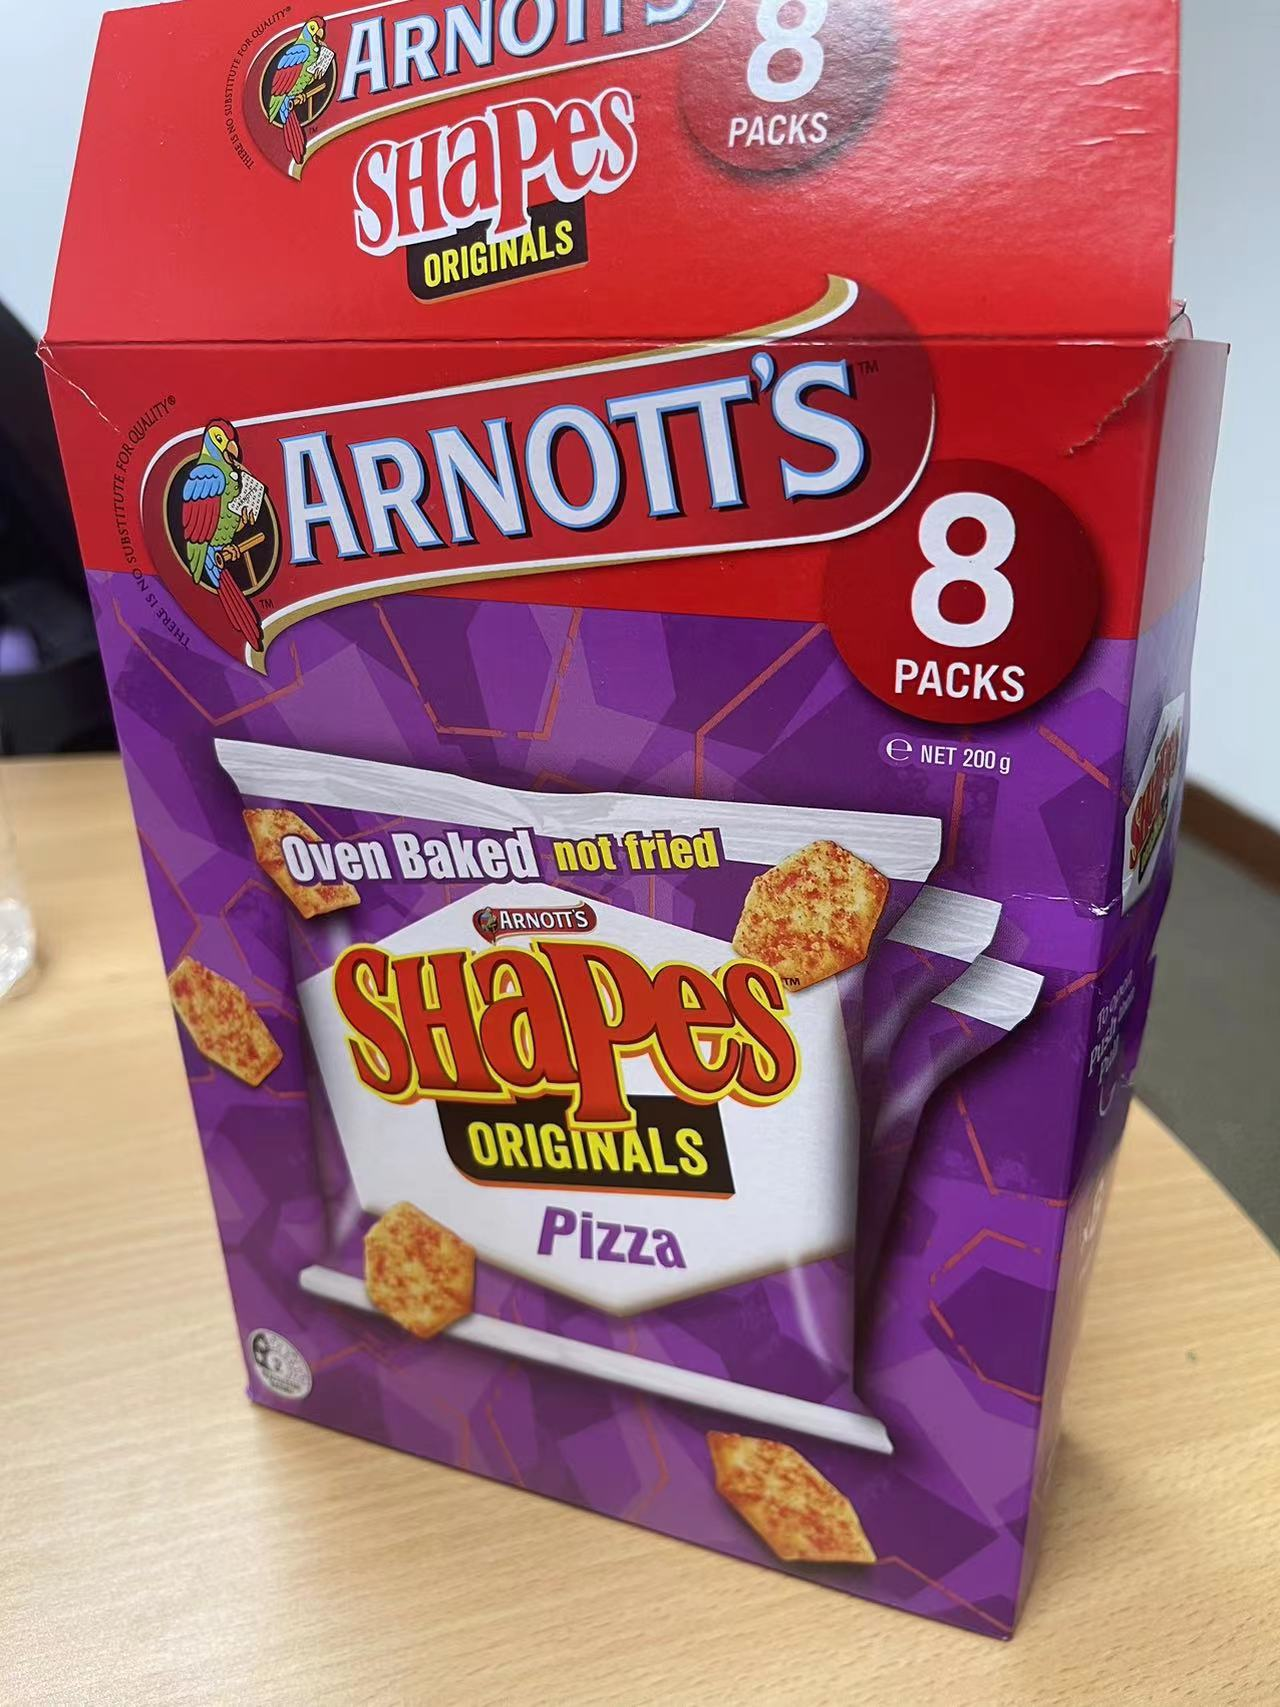Crackers_200-299g_NonHalal_NonHealthy: (83, 4, 1218, 1644)
